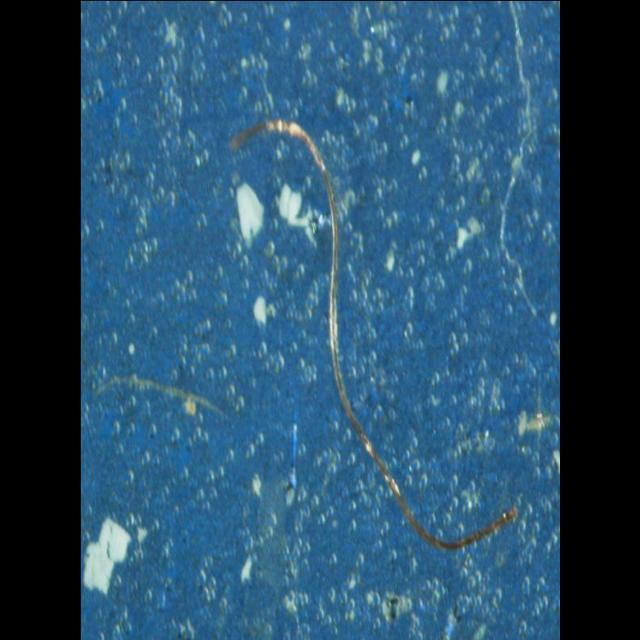Fibre: (228, 114, 518, 550)
